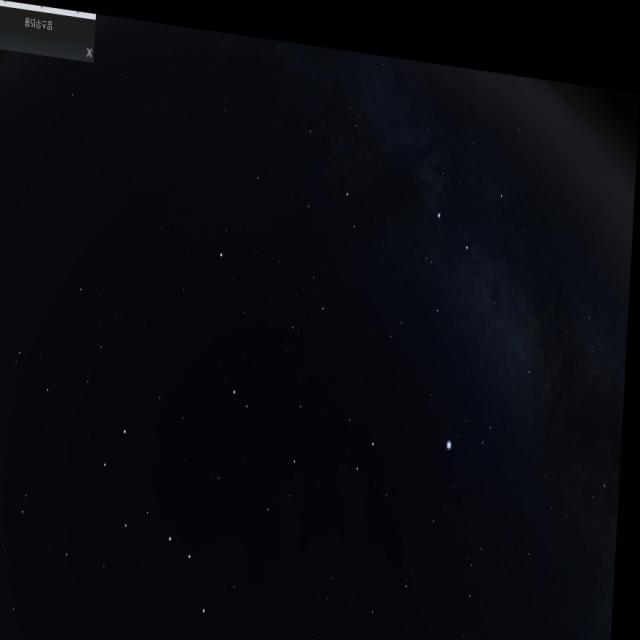cygnus: (424, 146, 546, 365)
lyra: (447, 381, 507, 455)
ursa_major: (88, 409, 223, 630)
